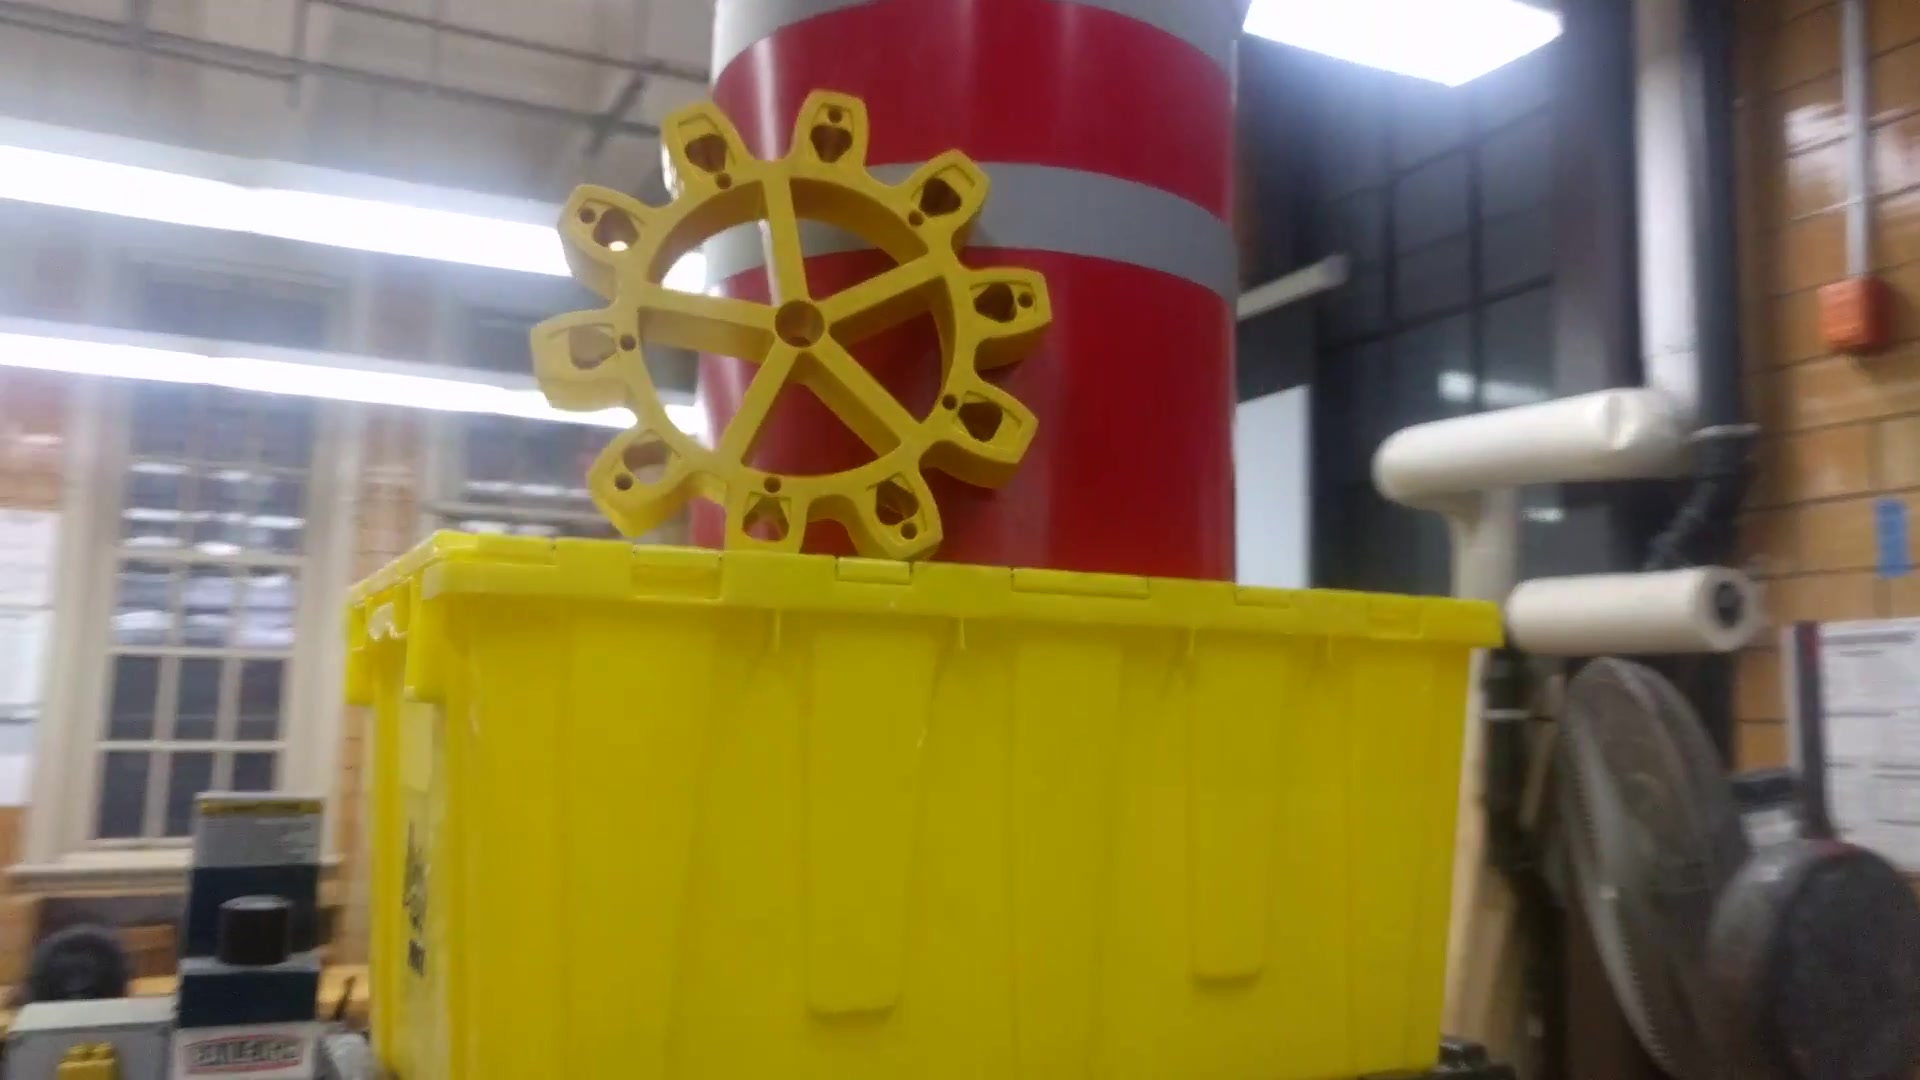gear: (539, 78, 1050, 608)
